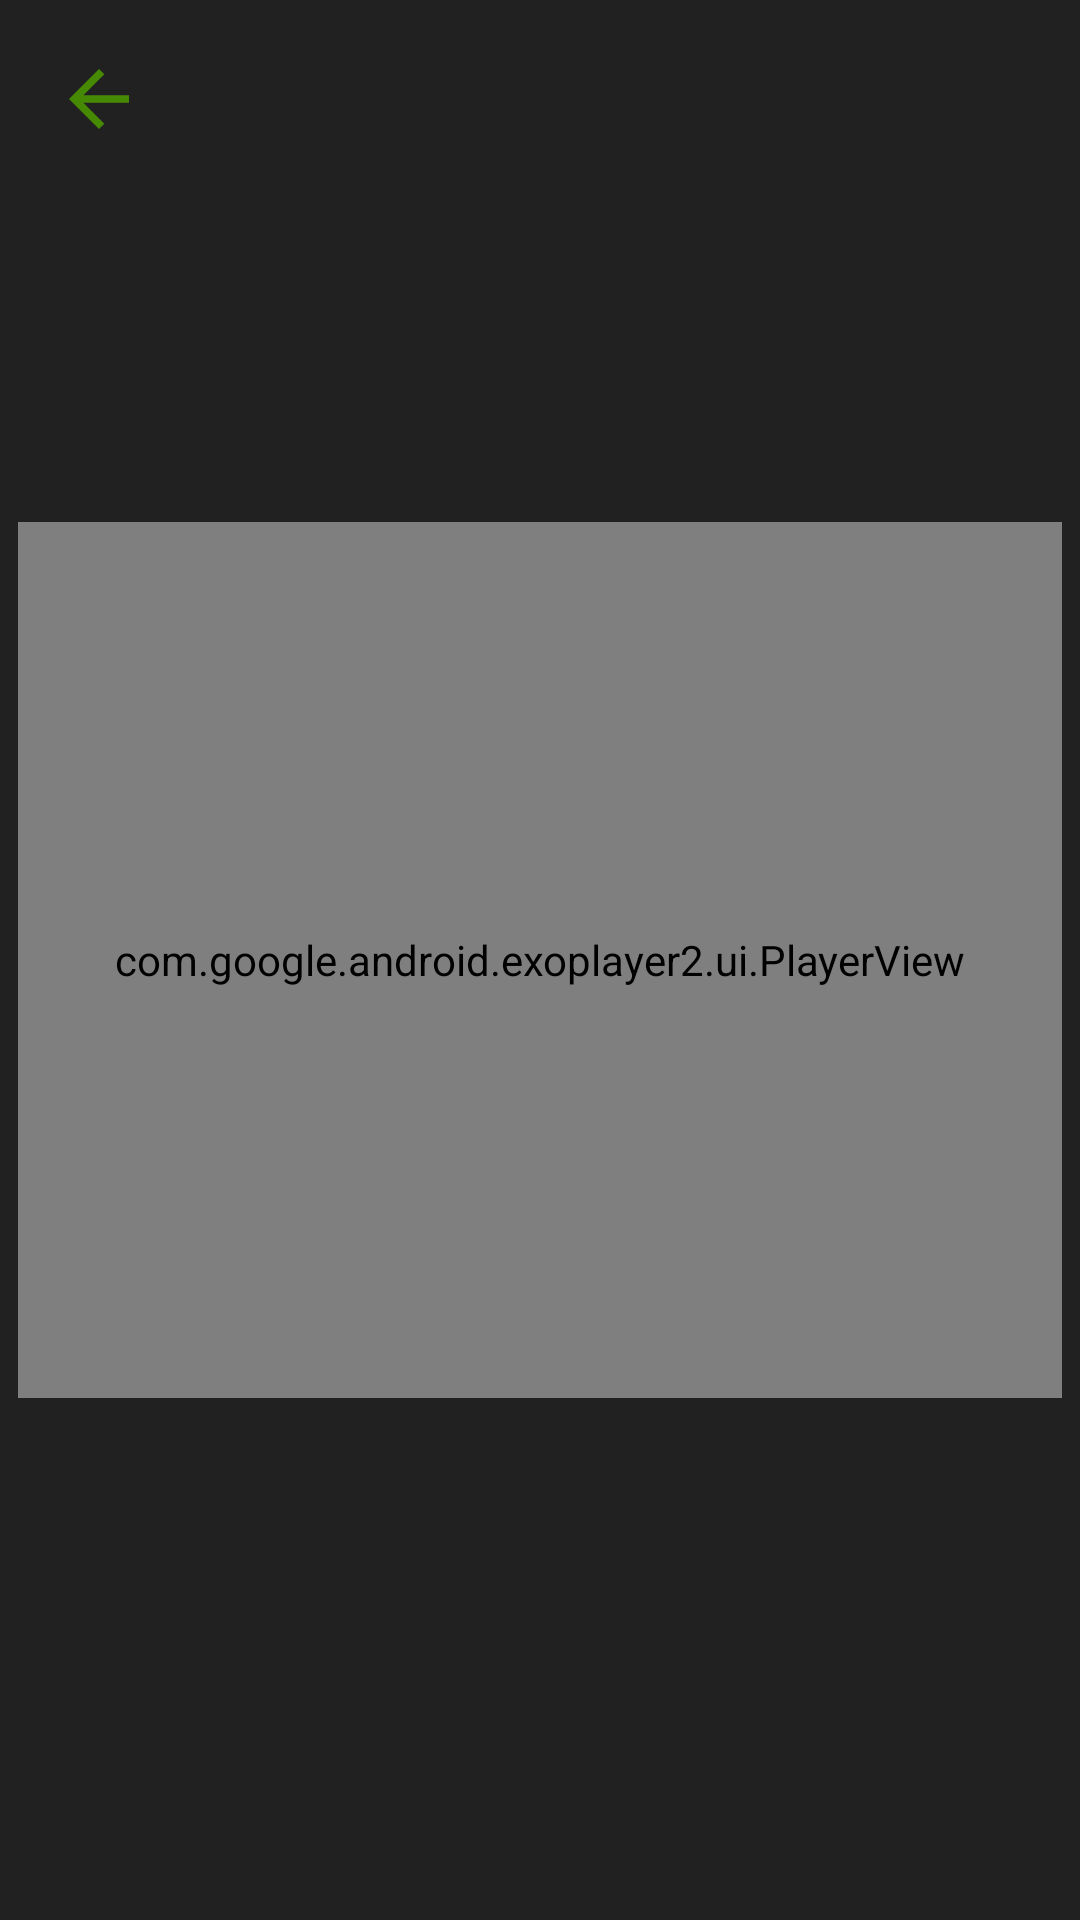

Where to tap for icons on this 1080 × 1920 app screen, as [x,y]:
back: [99,99]
